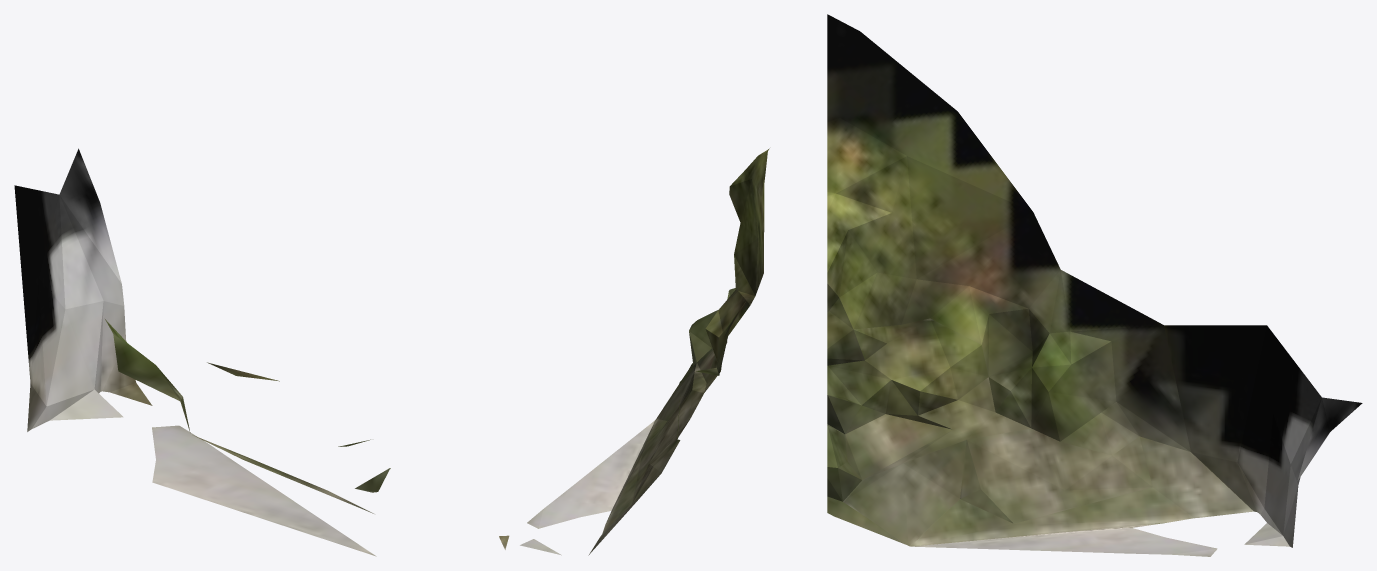
3 renders of one model, left to right at view 1: azimuth 30°, elevation 25°; view 2: azimuth 150°, elevation 25°; view 3: azimuth 270°, elevation 25°, orthographic. The views are drawn at different scales.
Size of the model in its own units: 8.59 by 26.65 by 26.83.
1 material, 1 textured.
